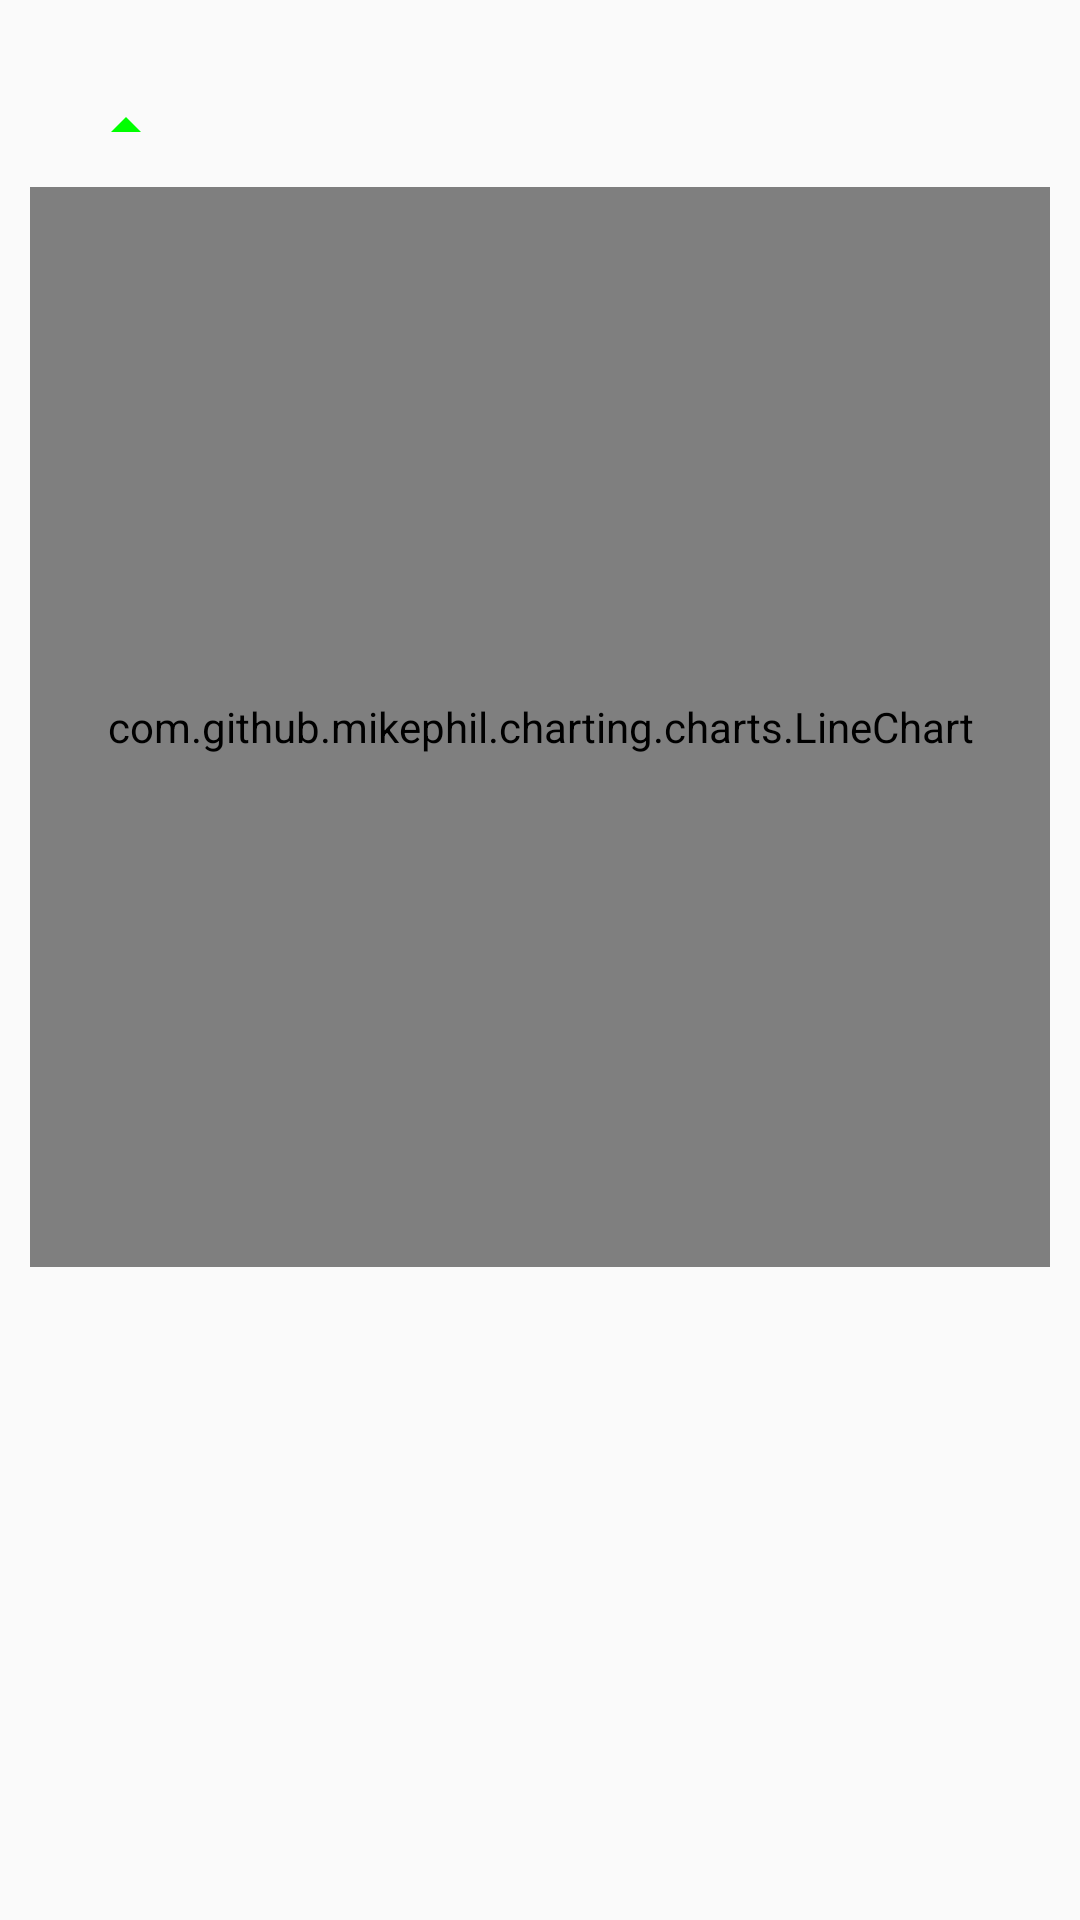

Locate icon controls on the screen. Image size 1080 x 1920, boxes as (x1, y1, x2, y2).
stock up: (111, 117, 141, 132)
